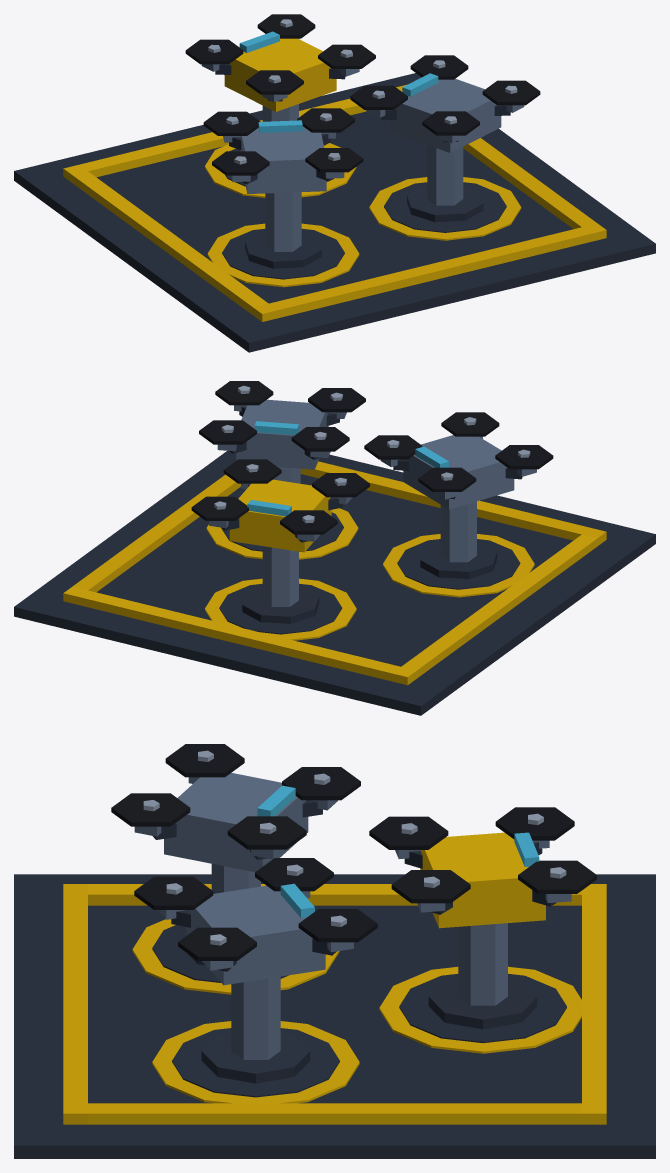
File: Decor_MechaHangar_DronePad.fbx
3 renders of one model, top to bottom at view 1: azimuth 30°, elevation 25°; view 2: azimuth 150°, elevation 25°; view 3: azimuth 270°, elevation 25°, orthographic. The views are drawn at different scales.
Parts seen in each view (by area): view 1: DronePad_Body; view 2: DronePad_Body; view 3: DronePad_Body.
Part boxes in pixels (left/top/right/bottom): DronePad_Body: left=14, top=14, right=655, bottom=352; DronePad_Body: left=14, top=381, right=655, bottom=715; DronePad_Body: left=14, top=744, right=655, bottom=1158.
Bounding box in the file's own units: 13 × 3.9 × 13.
